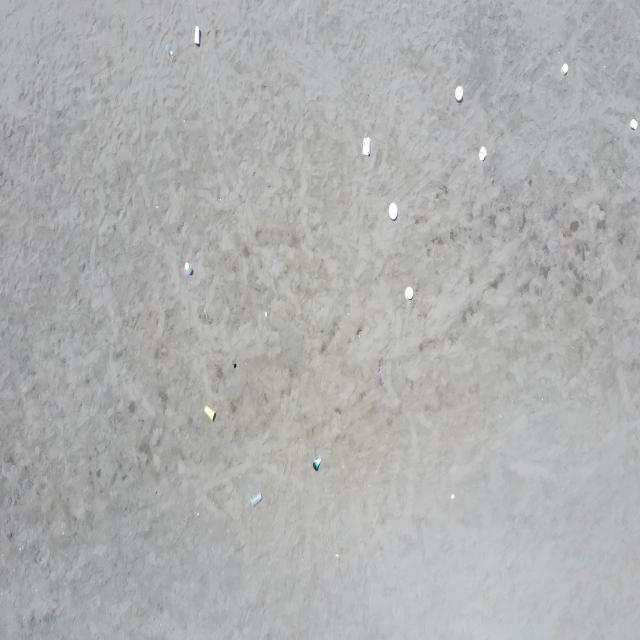take-away-containers: (388, 201, 398, 221), (362, 136, 372, 156), (454, 86, 464, 102), (478, 145, 487, 162), (406, 287, 416, 299), (560, 62, 568, 76), (630, 118, 638, 130)
takeaway-cup: (204, 404, 216, 421), (165, 44, 176, 61), (250, 492, 262, 507), (193, 24, 201, 46), (313, 455, 321, 470), (185, 261, 192, 276)
